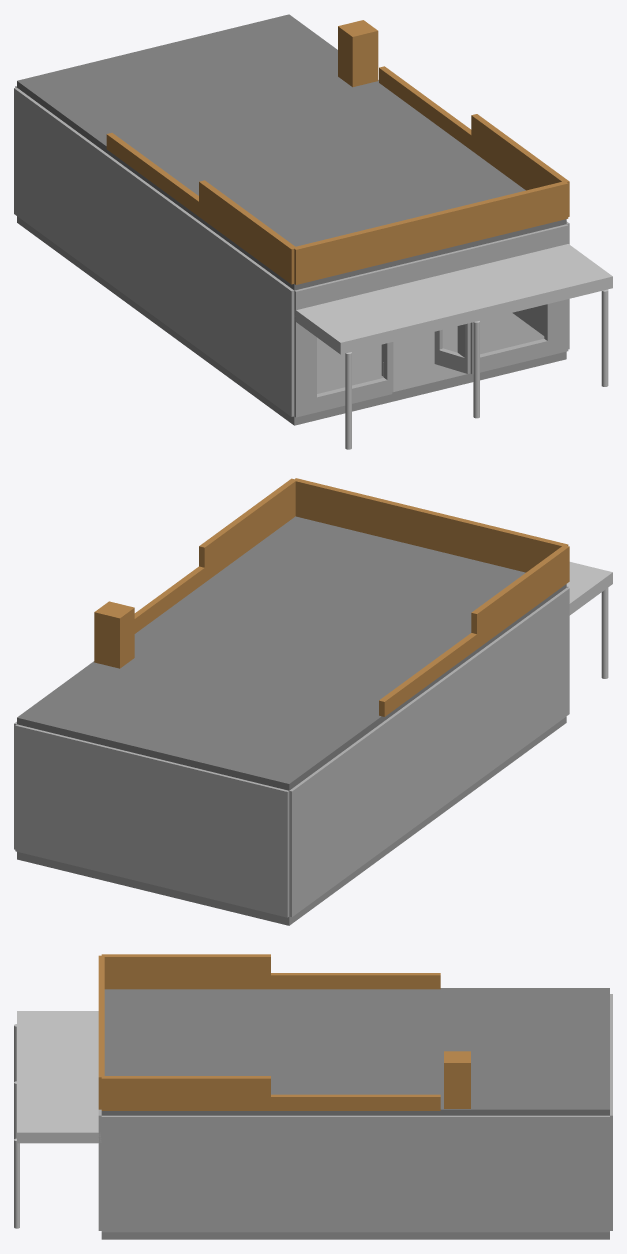
The model's file is building_iteration_024.glb.
The picture shows the model from 3 angles, top to bottom: view 1: azimuth 30°, elevation 25°; view 2: azimuth 150°, elevation 25°; view 3: azimuth 270°, elevation 25°; orthographic projection. The views are drawn at different scales.
Parts seen in each view (by area): view 1: Roof, Wall_Left, Canopy_Roof, Wall_Front, Foundation, Parapet_Front, Parapet_Left_Front, Parapet_Right_Front, Chimney, Parapet_Right_Middle, Parapet_Left_Middle, Alcove_Wall_Right (+4 smaller); view 2: Roof, Wall_Left, Wall_Rear, Parapet_Front, Foundation, Parapet_Left_Front, Parapet_Right_Front, Chimney, Parapet_Left_Middle, Canopy_Roof, Parapet_Right_Middle, Canopy_Post_1; view 3: Wall_Right, Roof, Canopy_Roof, Parapet_Left_Front, Parapet_Right_Front, Foundation, Parapet_Left_Middle, Parapet_Right_Middle, Chimney, Parapet_Front, Wall_Rear, Canopy_Post_3 (+1 smaller).
Boxes of the visible parts, x1=… form: Roof: x1=17, y1=14, x2=566, y2=290; Wall_Left: x1=14, y1=87, x2=294, y2=416; Canopy_Roof: x1=294, y1=244, x2=612, y2=354; Wall_Front: x1=294, y1=224, x2=568, y2=417; Foundation: x1=17, y1=216, x2=566, y2=425; Parapet_Front: x1=294, y1=182, x2=568, y2=284; Parapet_Left_Front: x1=199, y1=180, x2=296, y2=284; Parapet_Right_Front: x1=471, y1=114, x2=569, y2=216; Chimney: x1=338, y1=20, x2=378, y2=87; Parapet_Right_Middle: x1=379, y1=66, x2=471, y2=149; Parapet_Left_Middle: x1=106, y1=133, x2=198, y2=216; Alcove_Wall_Right: x1=434, y1=323, x2=470, y2=373; Roof: x1=17, y1=516, x2=566, y2=790; Wall_Left: x1=289, y1=588, x2=569, y2=916; Wall_Rear: x1=15, y1=724, x2=289, y2=917; Parapet_Front: x1=295, y1=478, x2=568, y2=572; Foundation: x1=17, y1=716, x2=566, y2=925; Parapet_Left_Front: x1=471, y1=545, x2=569, y2=648; Parapet_Right_Front: x1=199, y1=478, x2=296, y2=582; Chimney: x1=94, y1=601, x2=134, y2=668; Parapet_Left_Middle: x1=379, y1=633, x2=476, y2=716; Canopy_Roof: x1=566, y1=562, x2=612, y2=615; Parapet_Right_Middle: x1=134, y1=566, x2=204, y2=633; Canopy_Post_1: x1=601, y1=588, x2=608, y2=678; Wall_Right: x1=101, y1=1115, x2=609, y2=1232; Roof: x1=101, y1=988, x2=609, y2=1115; Canopy_Roof: x1=17, y1=1011, x2=101, y2=1143; Parapet_Left_Front: x1=101, y1=954, x2=270, y2=989; Parapet_Right_Front: x1=101, y1=1076, x2=270, y2=1110; Foundation: x1=101, y1=1232, x2=609, y2=1239; Parapet_Left_Middle: x1=271, y1=973, x2=440, y2=989; Parapet_Right_Middle: x1=271, y1=1094, x2=440, y2=1110; Chimney: x1=444, y1=1051, x2=470, y2=1108; Parapet_Front: x1=98, y1=955, x2=104, y2=1109; Wall_Rear: x1=610, y1=994, x2=612, y2=1230; Canopy_Post_3: x1=14, y1=1138, x2=19, y2=1228.
Bounding box in the file's own units: 8.68 × 5.73 × 17.68.
